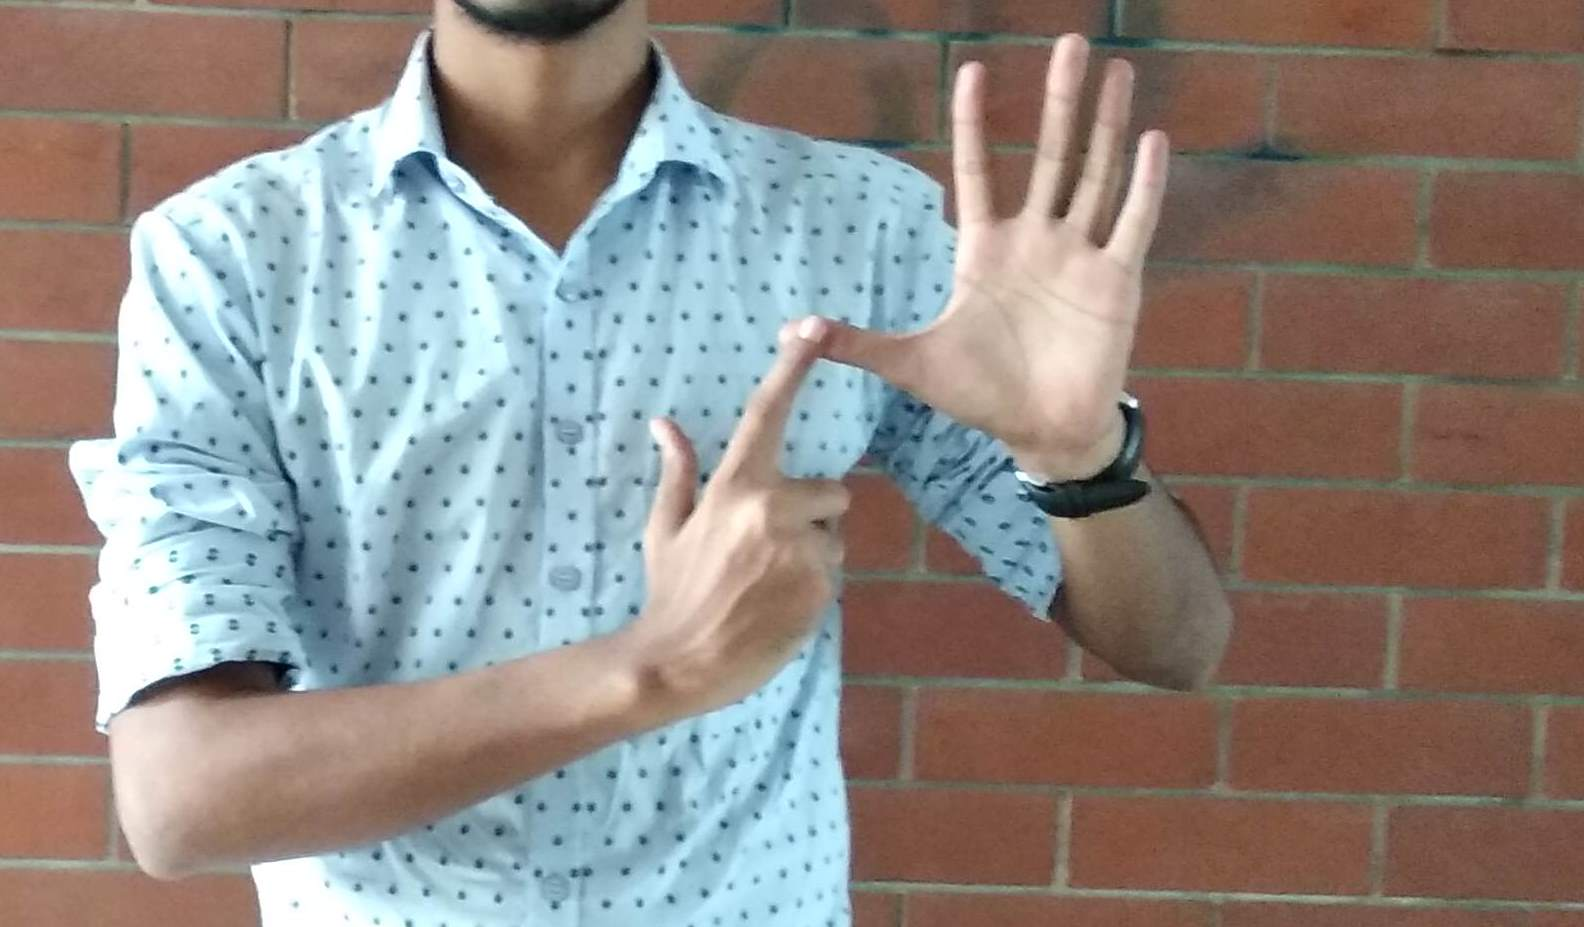a: (649, 125, 1117, 700)
